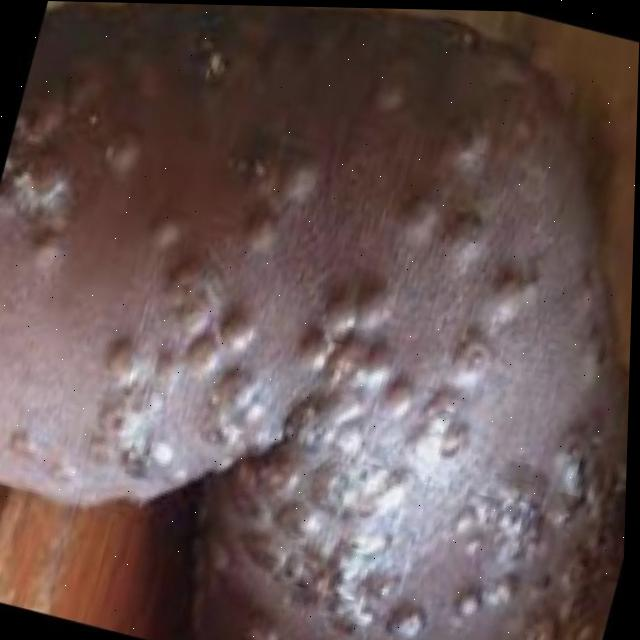Eczema: (0, 38, 639, 592)
